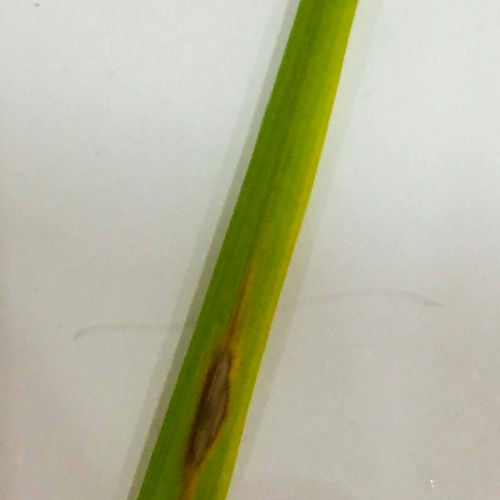Busuk Leher: (172, 338, 252, 486)
